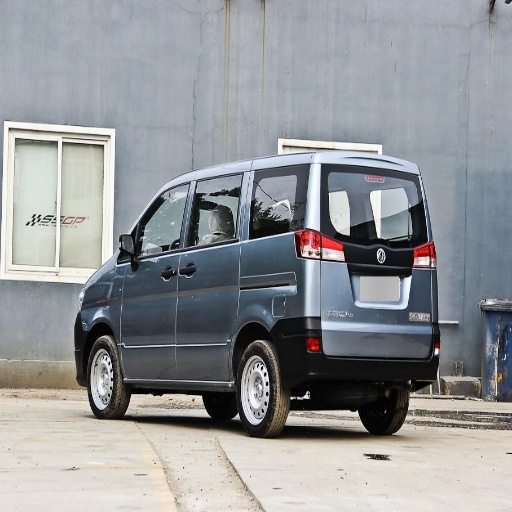back_bumper: (298, 326, 437, 396)
back_glass: (329, 165, 420, 242)
back_left_door: (180, 174, 243, 376)
trunk: (232, 237, 432, 383)
